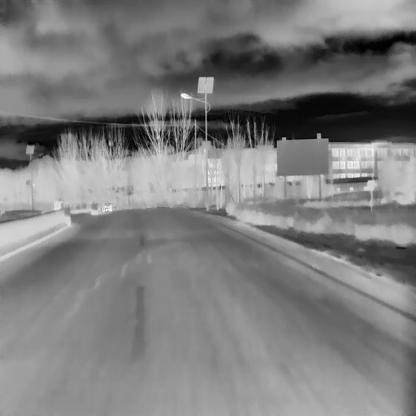car: (101, 202, 112, 212)
